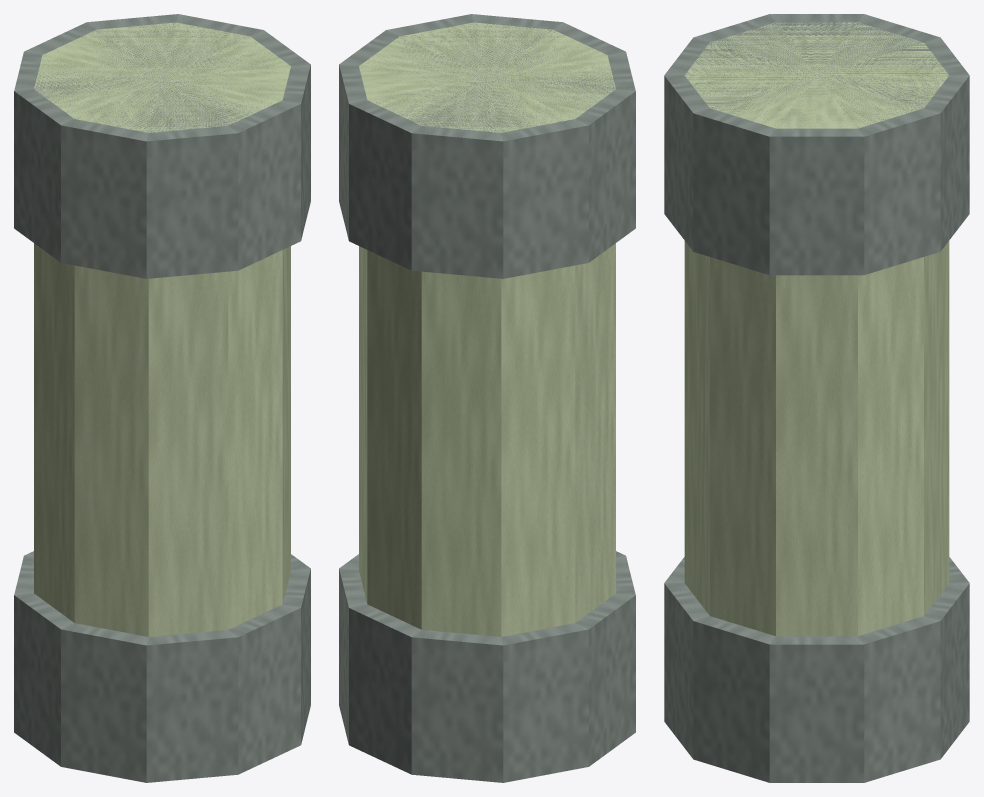
File: Fuse.obj
3 views of the same model, side by side, from view 1: azimuth 30°, elevation 25°; view 2: azimuth 150°, elevation 25°; view 3: azimuth 270°, elevation 25° (orthographic).
Parts seen in each view (by area): view 1: Fuse; view 2: Fuse; view 3: Fuse.
Part boxes in pixels (x1,y1,x2,y2): Fuse: [14, 14, 310, 782]; Fuse: [339, 14, 635, 782]; Fuse: [664, 14, 969, 782].
Size of the model in its own units: 0.0285 by 0.07 by 0.03.
Materials: 2 (2 with a texture image).
